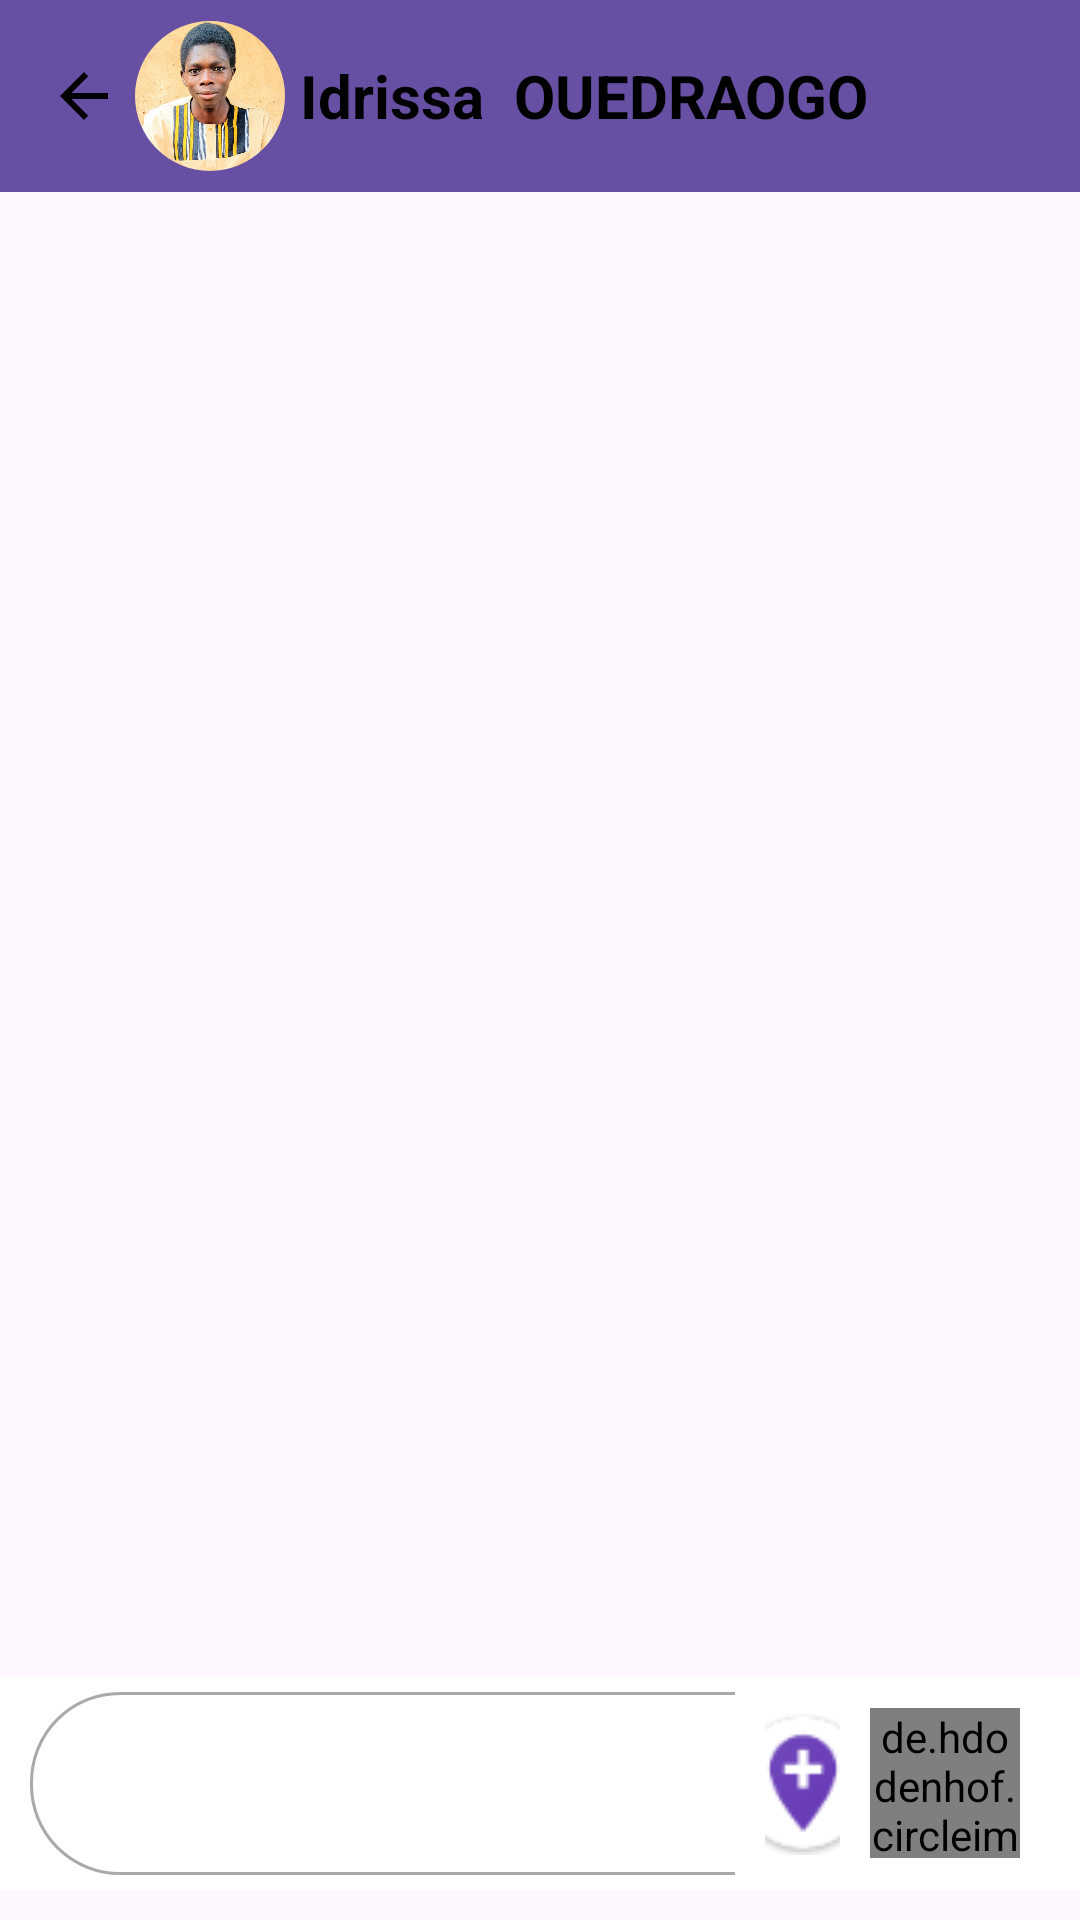

Where icons sit on this 1080px x 1920px app screen, as (x1, y1, x2, y2):
BACK: (60, 72, 108, 120)
localisation: (765, 1734, 840, 1853)
